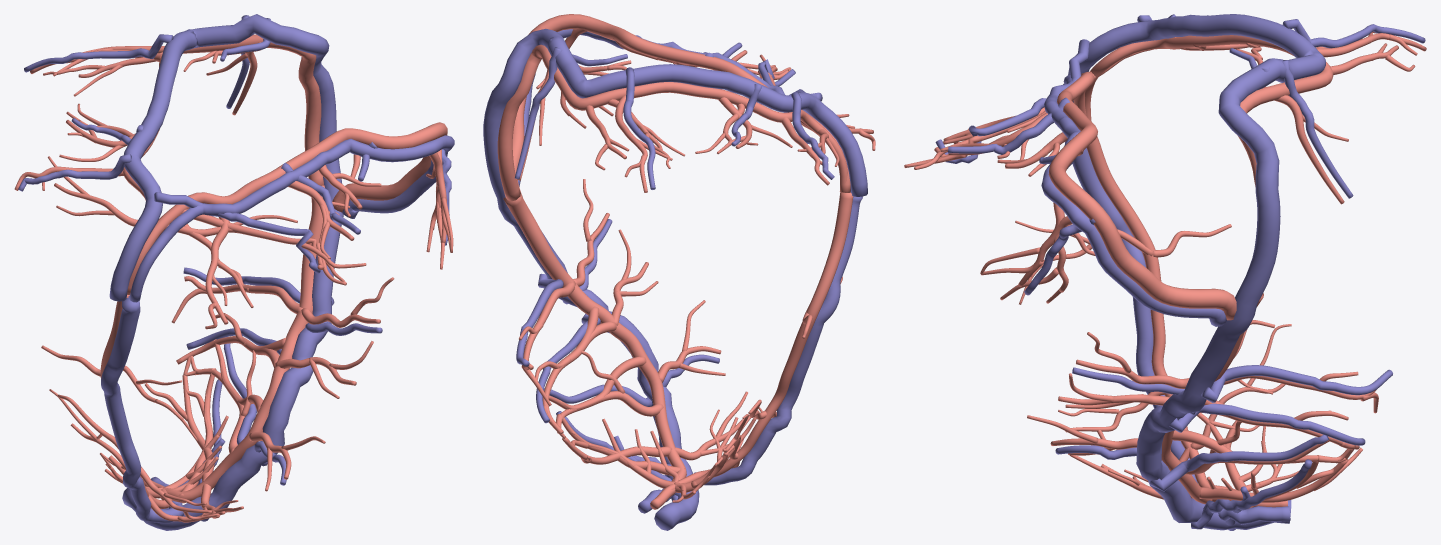
The model's file is vessels_17.glb.
The picture shows the model from 3 angles, left to right: view 1: azimuth 30°, elevation 25°; view 2: azimuth 150°, elevation 25°; view 3: azimuth 270°, elevation 25°; orthographic projection. The views are drawn at different scales.
Visible parts, largest first — view 1: Renderer Node; view 2: Renderer Node; view 3: Renderer Node.
Part boxes in pixels (x1,y1,x2,y2): Renderer Node: [14, 14, 454, 530]; Renderer Node: [483, 14, 875, 530]; Renderer Node: [904, 14, 1426, 530].
Size of the model in its own units: 93.06 by 112 by 99.69.
